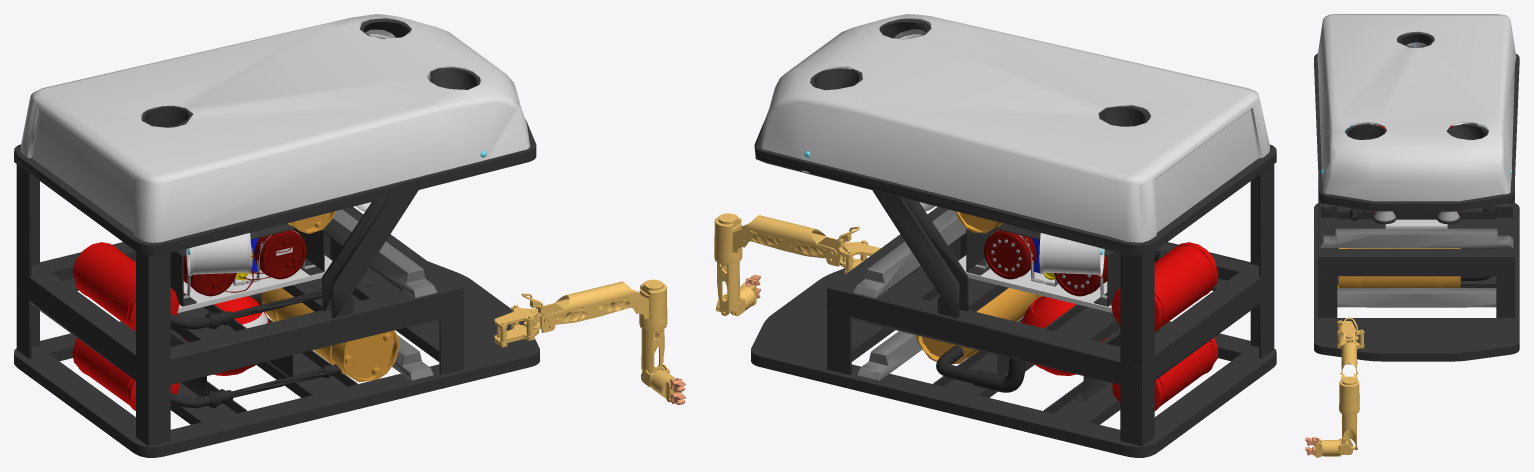
Rendered from rexrov2_oberon7_subsea_rov.glb.
The picture shows the model from 3 angles, left to right: view 1: azimuth 30°, elevation 25°; view 2: azimuth 150°, elevation 25°; view 3: azimuth 270°, elevation 25°; orthographic projection. The views are drawn at different scales.
Parts seen in each view (by area): view 1: rexrov2_hull_Housing_Top, rov_sensor_pod_Frame-Main, rexrov2_hull_Frame-Ground, rexrov2_hull_Frame-Top, rexrov2_hull_Tank_003, rexrov2_hull_Frame-vertical-front_001, rexrov2_hull_Cylinder_002, rexrov2_hull__-String_001, rexrov2_hull_Frame-Ground_001, rexrov2_hull_BezierCurve_005, oberon7_upper_arm, rexrov2_hull_Counter-Weight_001 (+15 smaller); view 2: rexrov2_hull_Housing_Top, rov_sensor_pod_Frame-Main, rexrov2_hull_Frame-Ground, rexrov2_hull_Frame-Top, rexrov2_hull_Tank_003, rexrov2_hull_Frame-vertical-front_001, rexrov2_hull_Frame-Ground_001, rexrov2_hull_BezierCurve_005, rexrov2_hull_Counter-Weight_001, oberon7_upper_arm, rexrov2_hull_Cylinder_002, rexrov2_hull_SF30k-2 (+15 smaller); view 3: rexrov2_hull_Housing_Top, rov_sensor_pod_Frame-Main, rexrov2_hull_Frame-Ground, rexrov2_hull_Counter-Weight_001, rexrov2_hull_Frame-Ground_001, rexrov2_hull_Frame-Top, rexrov2_hull_Counter-Weight, rexrov2_hull_Cylinder_002, rexrov2_hull_Beam_004, rexrov2_hull_bcut-top_003, oberon7_elbow_link, rexrov2_hull_Beam2_001 (+10 smaller).
Part boxes in pixels (x1,y1,x2,y2): rexrov2_hull_Housing_Top: (21,14,530,242); rov_sensor_pod_Frame-Main: (16,164,463,446); rexrov2_hull_Frame-Ground: (14,261,539,457); rexrov2_hull_Frame-Top: (14,68,536,255); rexrov2_hull_Tank_003: (72,242,179,410); rexrov2_hull_Frame-vertical-front_001: (322,190,418,318); rexrov2_hull_Cylinder_002: (261,211,399,382); rexrov2_hull__-String_001: (170,279,375,408); rexrov2_hull_Frame-Ground_001: (356,273,505,361); rexrov2_hull_BezierCurve_005: (183,229,306,296); oberon7_upper_arm: (544,281,641,325); rexrov2_hull_Counter-Weight_001: (324,209,437,297); rexrov2_hull_Housing_Top: (760,14,1269,242); rov_sensor_pod_Frame-Main: (827,164,1274,446); rexrov2_hull_Frame-Ground: (751,267,1276,457); rexrov2_hull_Frame-Top: (754,69,1276,255); rexrov2_hull_Tank_003: (1111,242,1218,410); rexrov2_hull_Frame-vertical-front_001: (872,190,968,318); rexrov2_hull_Frame-Ground_001: (785,273,934,361); rexrov2_hull_BezierCurve_005: (984,229,1107,296); rexrov2_hull_Counter-Weight_001: (853,209,966,297); oberon7_upper_arm: (740,215,837,259); rexrov2_hull_Cylinder_002: (916,211,1041,364); rexrov2_hull_SF30k-2: (801,34,1104,276); rexrov2_hull_Housing_Top: (1317,14,1516,201); rov_sensor_pod_Frame-Main: (1318,178,1514,317); rexrov2_hull_Frame-Ground: (1314,203,1519,361); rexrov2_hull_Counter-Weight_001: (1320,228,1513,248); rexrov2_hull_Frame-Ground_001: (1335,318,1497,343); rexrov2_hull_Frame-Top: (1314,53,1519,211); rexrov2_hull_Counter-Weight: (1337,288,1496,307); rexrov2_hull_Cylinder_002: (1337,248,1460,287); rexrov2_hull_Beam_004: (1337,211,1496,228); rexrov2_hull_bcut-top_003: (1345,124,1488,139); oberon7_elbow_link: (1339,374,1359,413); rexrov2_hull_Beam2_001: (1385,219,1447,228).
Size of the model in its own units: 3.47 by 2.12 by 1.59.
